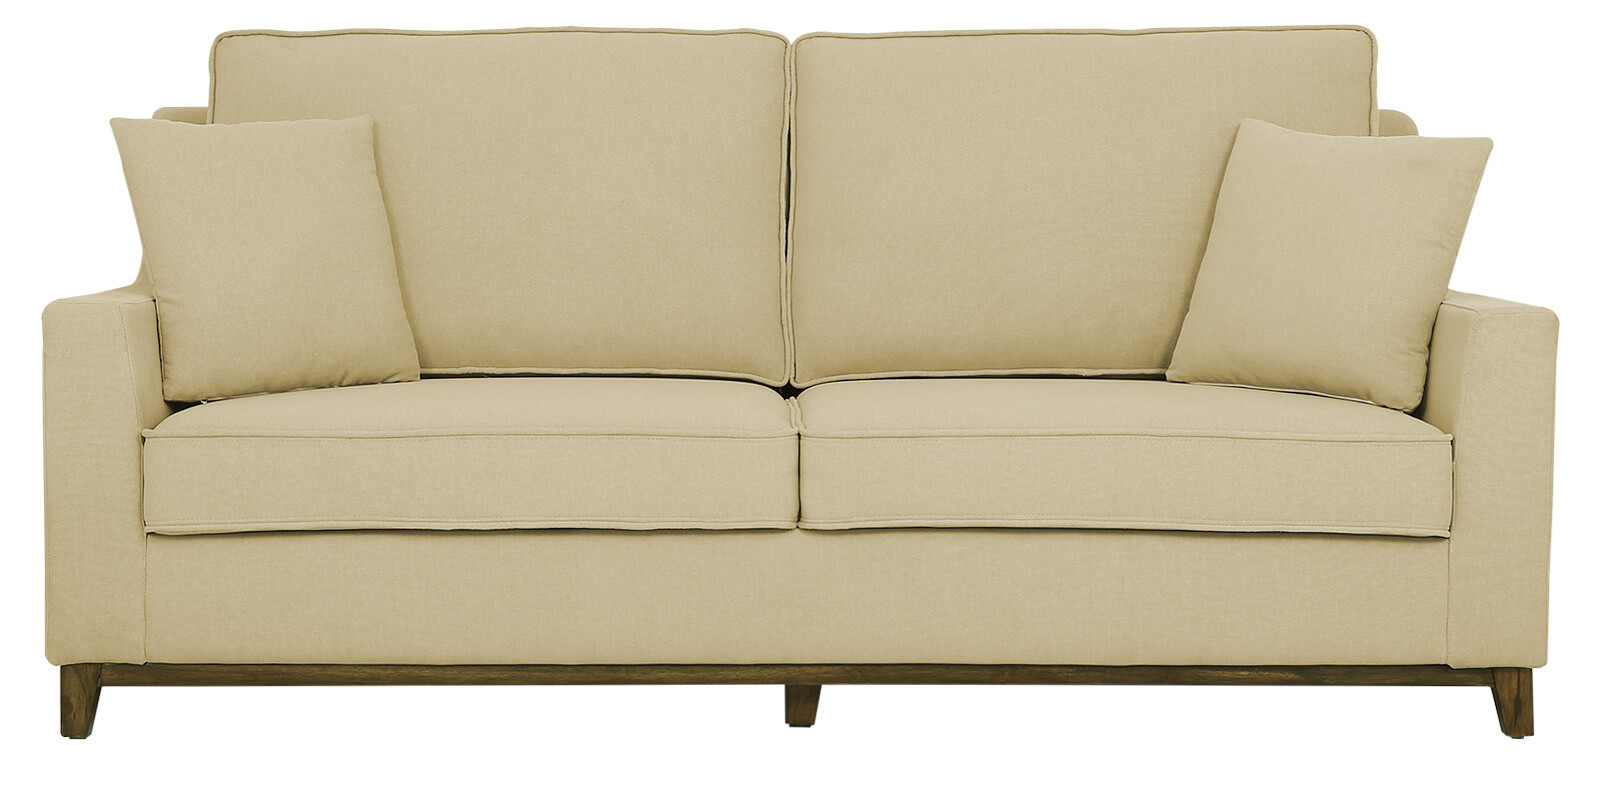Diego Three Seater Sofa in Beige Colour by CasaCraft: (16, 24, 1589, 748)
